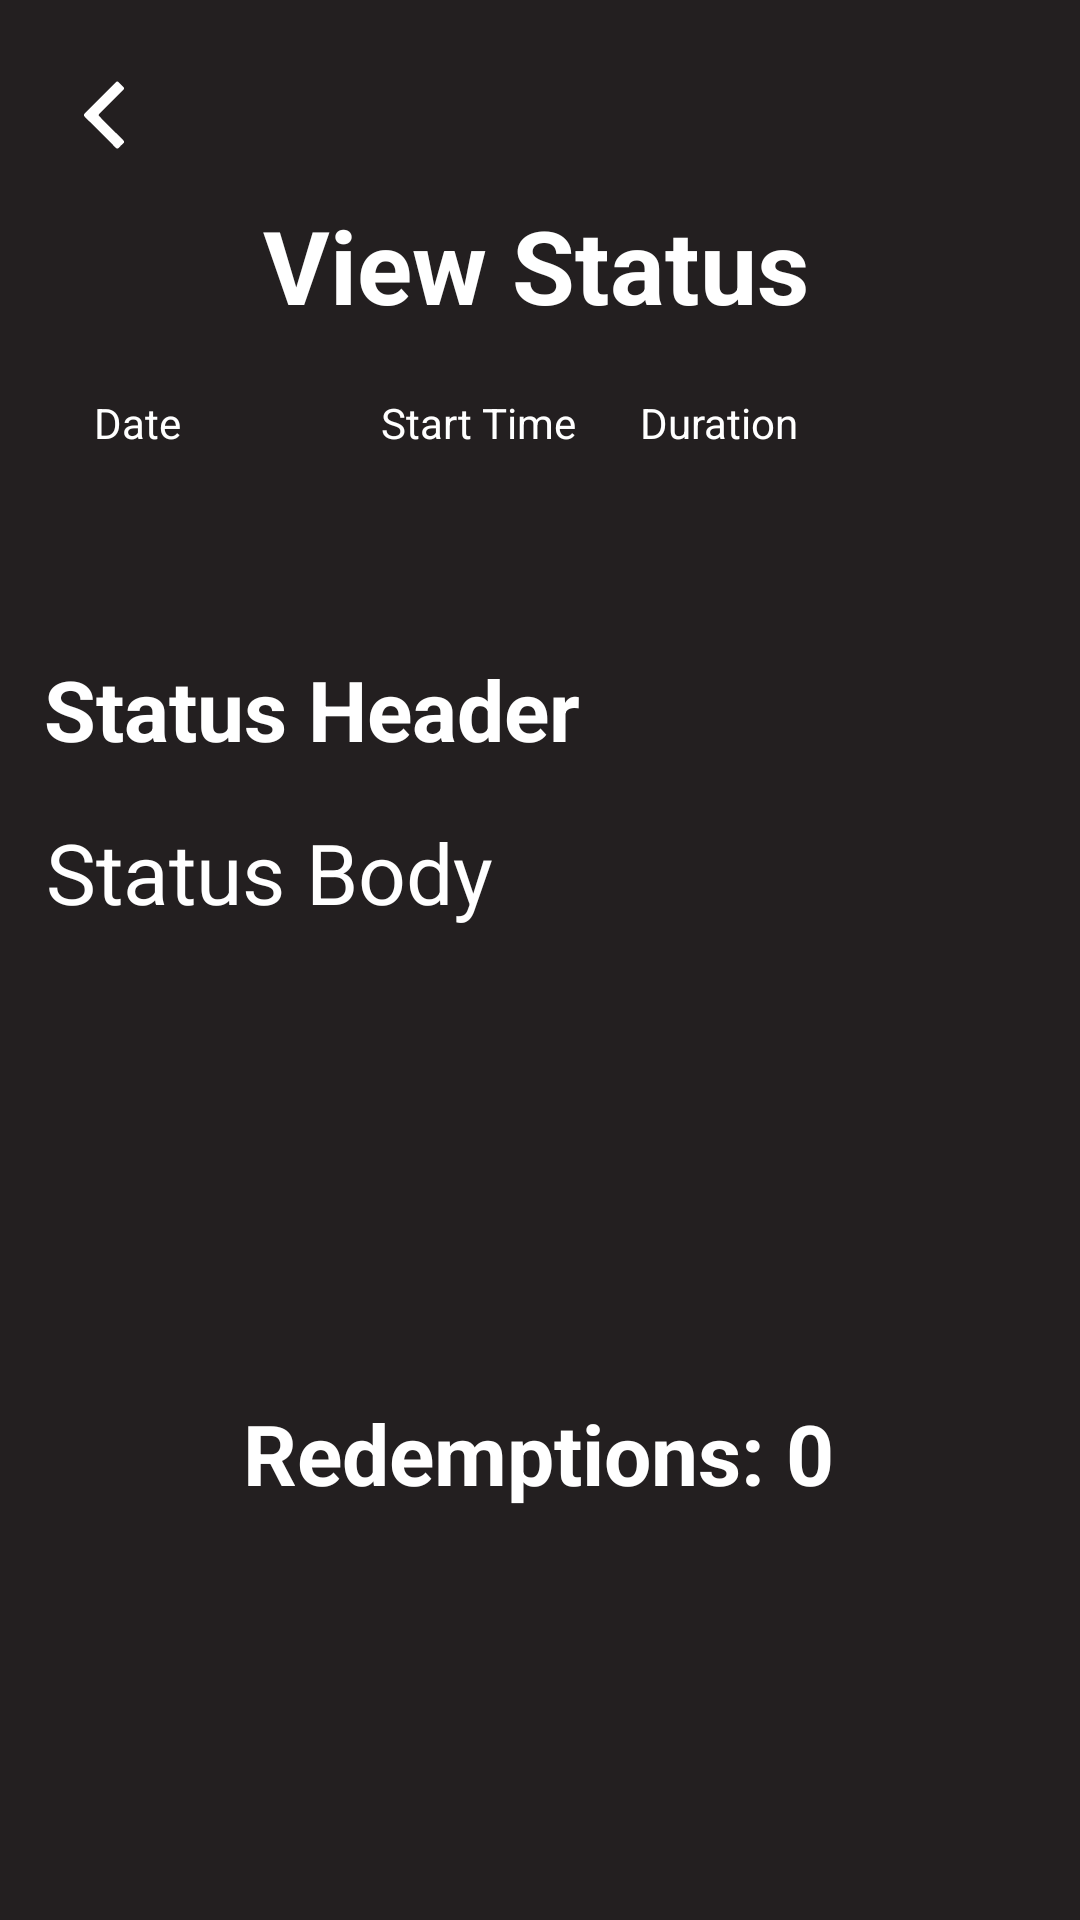

Icons on this 1080px×1920px Android screen, each with the point to tap as (x,y):
back: (104,115)
